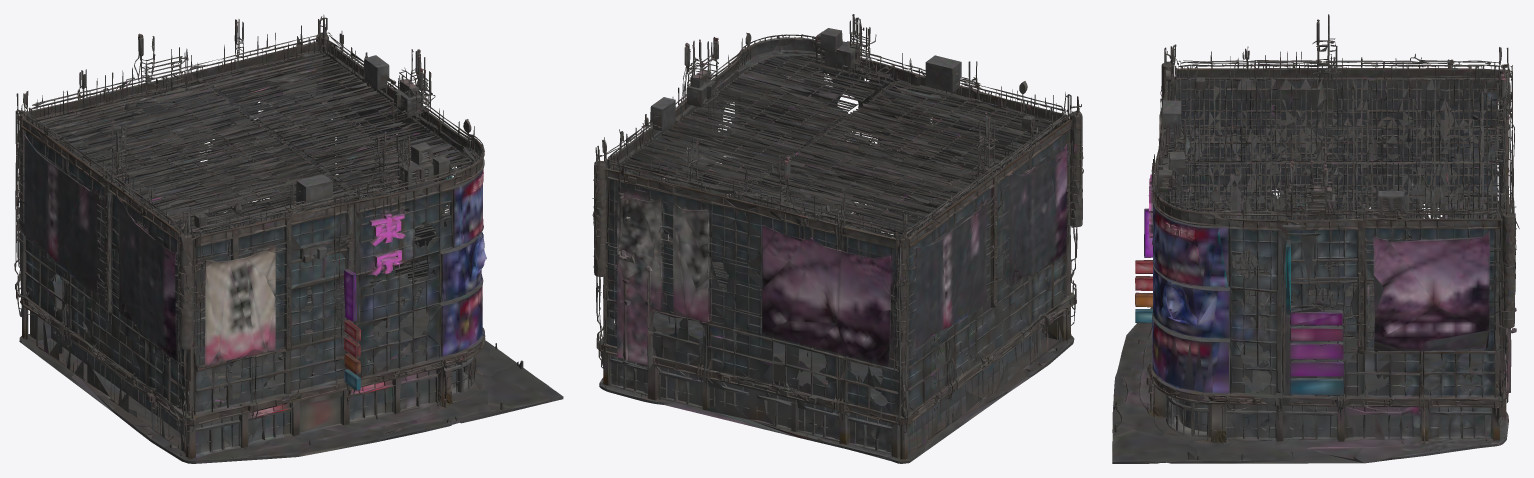
File: station-screens.glb
3 renders of one model, left to right at view 1: azimuth 30°, elevation 25°; view 2: azimuth 150°, elevation 25°; view 3: azimuth 270°, elevation 25°, orthographic.
Parts seen in each view (by area): view 1: output_unwrapped; view 2: output_unwrapped; view 3: output_unwrapped.
Boxes of the visible parts, x1,y1,x2,y2 form: output_unwrapped: (14, 14, 563, 463); output_unwrapped: (592, 14, 1083, 463); output_unwrapped: (1112, 14, 1519, 463).
Bounding box in the file's own units: 1.89 × 1.44 × 1.87.
Materials: 1 (1 with a texture image).
